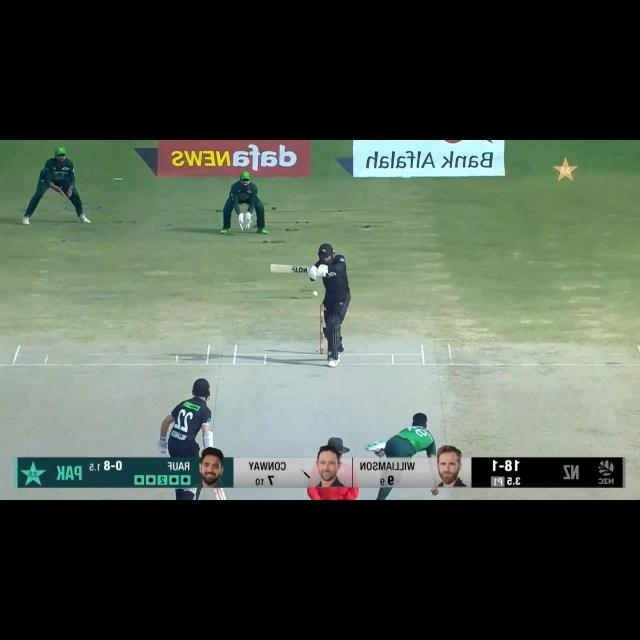bat: (270, 263, 310, 276)
toe: (270, 263, 279, 277)
